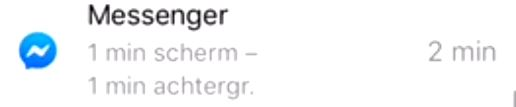name: (81, 1, 238, 32)
time: (83, 36, 153, 66), (85, 72, 152, 99)
